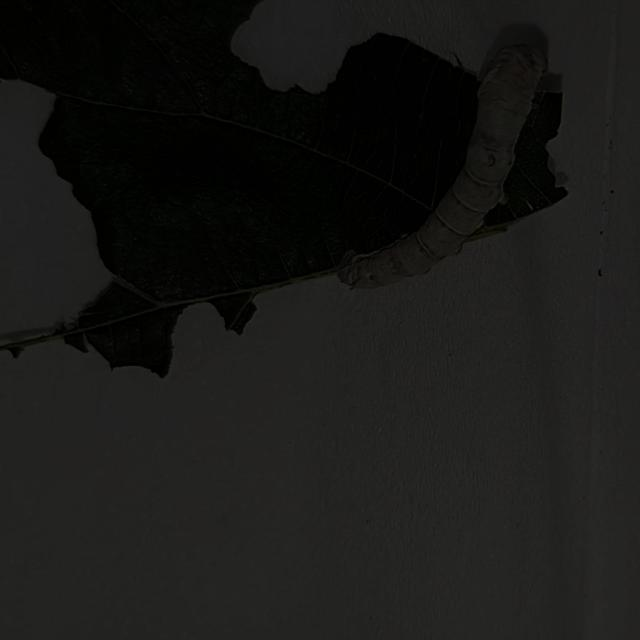Healthy: (319, 5, 591, 334)
